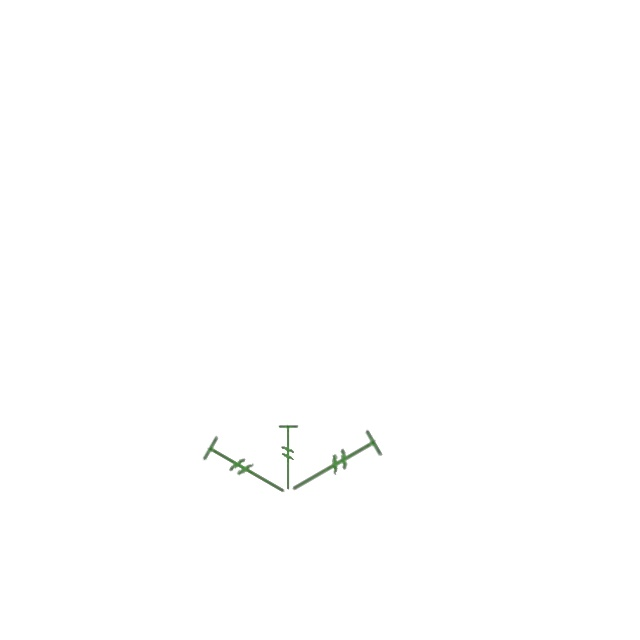fan: (280, 424, 389, 509), (197, 430, 298, 508), (276, 422, 302, 493)
